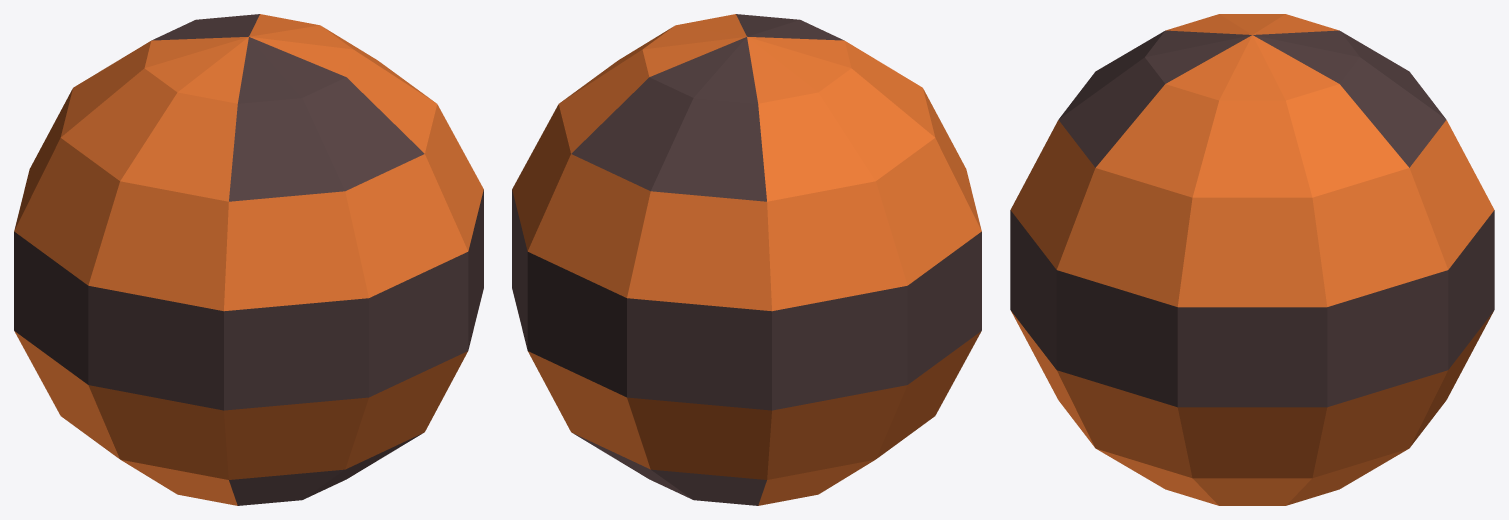
The model's file is ball.glb.
3 renders of one model, left to right at view 1: azimuth 30°, elevation 25°; view 2: azimuth 150°, elevation 25°; view 3: azimuth 270°, elevation 25°, orthographic.
Parts seen in each view (by area): view 1: Ball; view 2: Ball; view 3: Ball.
Boxes of the visible parts, x1,y1,x2,y2 form: Ball: (14, 14, 483, 505); Ball: (512, 14, 981, 505); Ball: (1010, 14, 1494, 505).
Bounding box in the file's own units: 0.2782 × 0.3 × 0.2925.
